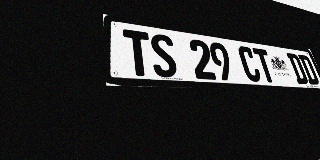2: (188, 38, 216, 80)
9: (208, 41, 235, 81)
C: (237, 45, 263, 82)
D: (286, 53, 309, 84), (298, 54, 320, 85)
S: (149, 33, 179, 78)
T: (123, 29, 154, 77), (252, 48, 277, 83)
